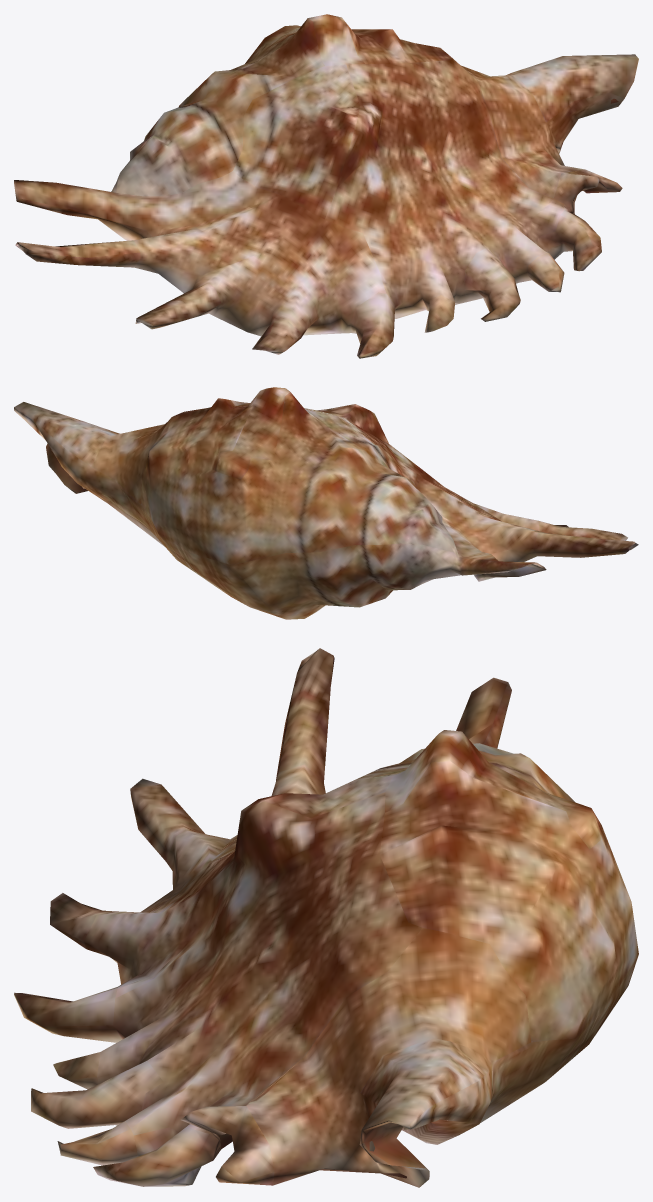
Rendered from shell.glb.
3 views of the same model, one above another, from view 1: azimuth 30°, elevation 25°; view 2: azimuth 150°, elevation 25°; view 3: azimuth 270°, elevation 25° (orthographic). The views are drawn at different scales.
Parts seen in each view (by area): view 1: lambis_shell; view 2: lambis_shell; view 3: lambis_shell.
Boxes of the visible parts, x1,y1,x2,y2 form: lambis_shell: (14,14,638,358); lambis_shell: (14,387,638,619); lambis_shell: (14,648,638,1187).
Size of the model in its own units: 0.1387 by 0.0464 by 0.0744.
Materials: 1 (1 with a texture image).
